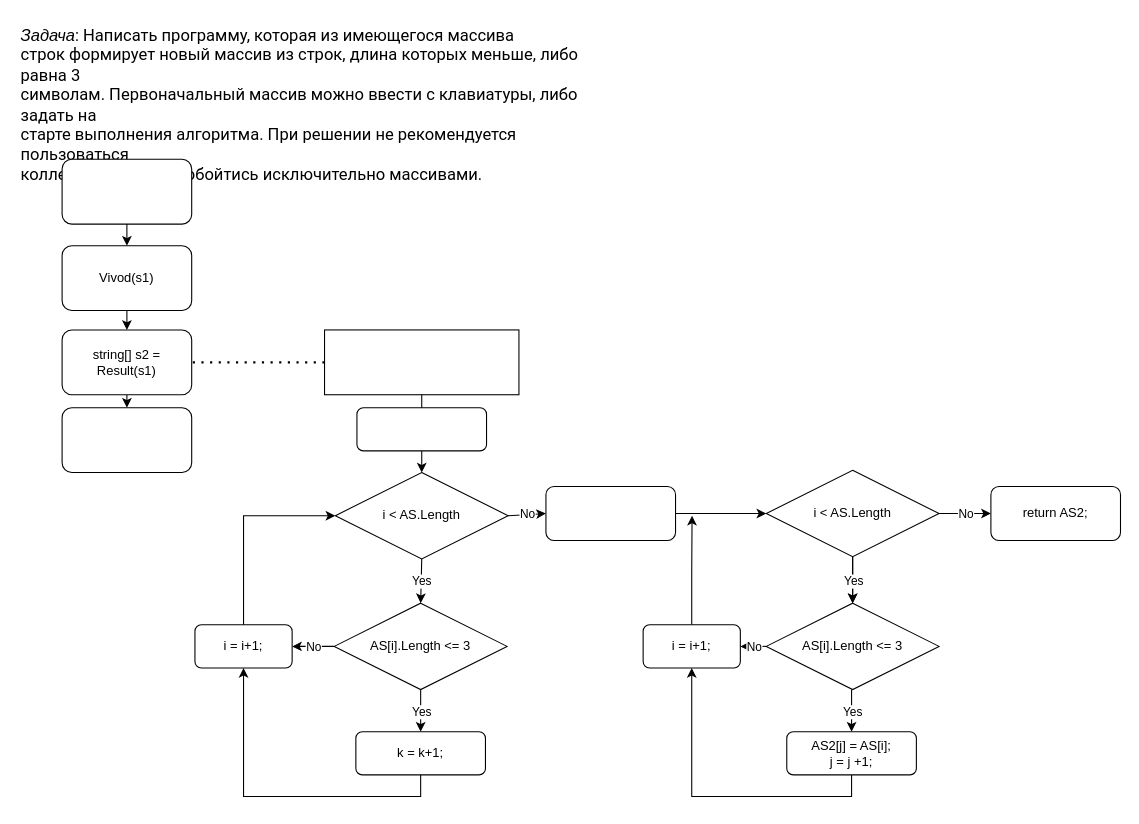
Some shapes in this 1139 by 824 pixel diagram are drawn without their labels. Each missing label, with the centre of its shape:
int i = 0; int k = 0;: the point at 421,429
string[] AS2 = new string[k]; int j = 0;: the point at 610,513
string[] Result (string[] AS): the point at 421,362
string[] s1 = Vvod(): the point at 126,191
Vivod(s2): the point at 126,440
